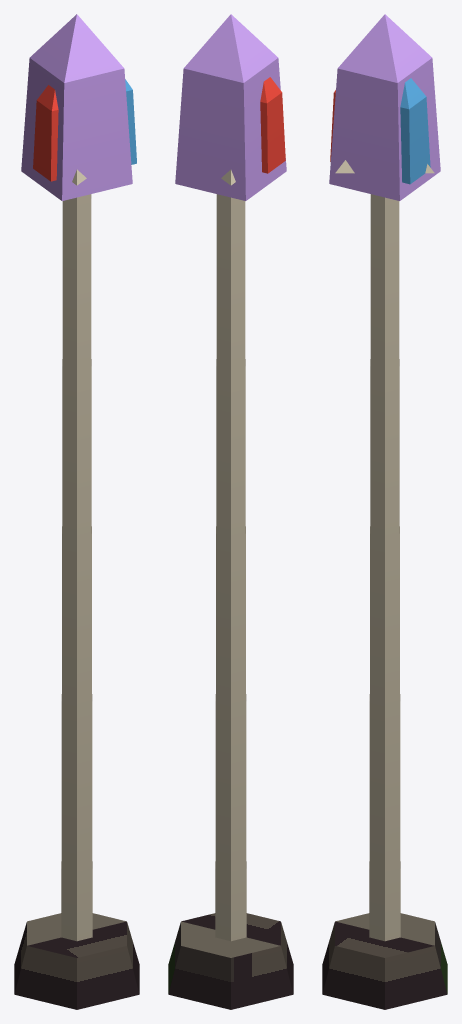
Rendered from prism_lantern.glb.
3 renders of one model, left to right at view 1: azimuth 30°, elevation 25°; view 2: azimuth 150°, elevation 25°; view 3: azimuth 330°, elevation 25°, orthographic.
Parts seen in each view (by area): view 1: prism_lantern; view 2: prism_lantern; view 3: prism_lantern.
Boxes of the visible parts, <box> form: prism_lantern: <box>14,14,139,1009</box>; prism_lantern: <box>168,14,293,1009</box>; prism_lantern: <box>322,14,447,1009</box>.
Bounding box in the file's own units: 0.4 × 2.95 × 0.3464.
3 materials, 1 textured.
